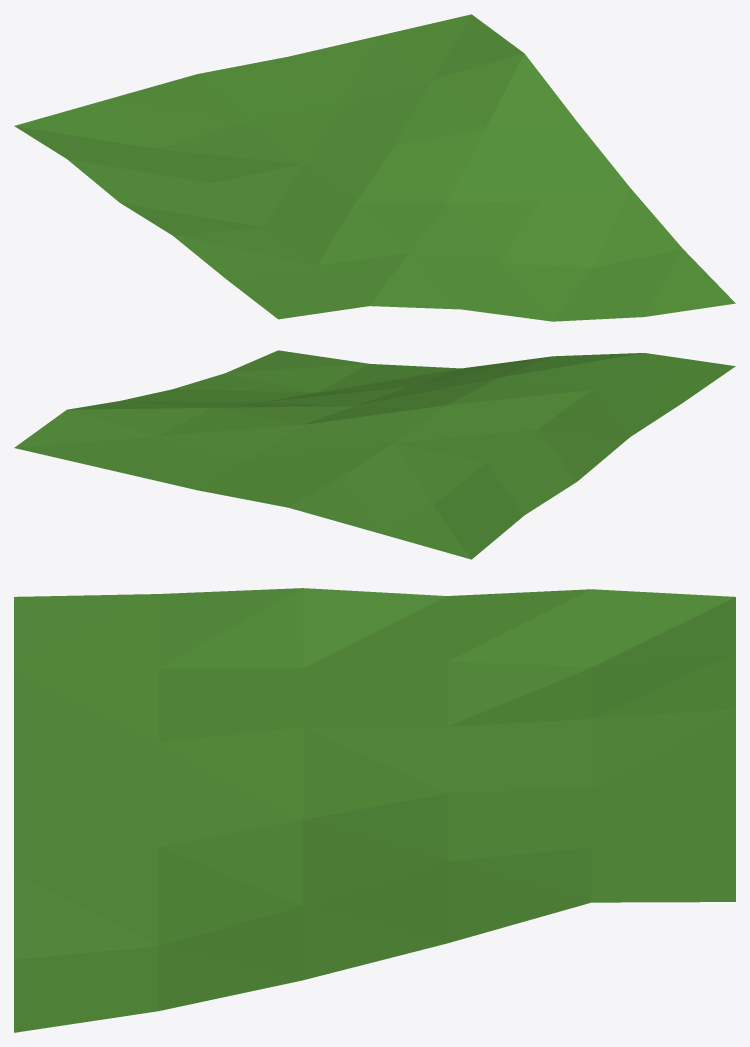
Rendered from terrain-plane-valley4.glb.
3 renders of one model, top to bottom at view 1: azimuth 30°, elevation 25°; view 2: azimuth 150°, elevation 25°; view 3: azimuth 270°, elevation 25°, orthographic. The views are drawn at different scales.
Visible parts, largest first — view 1: terrain-plane-valley4; view 2: terrain-plane-valley4; view 3: terrain-plane-valley4.
Part boxes in pixels (x1=…): terrain-plane-valley4: x1=14, y1=14, x2=735, y2=321; terrain-plane-valley4: x1=14, y1=350, x2=735, y2=559; terrain-plane-valley4: x1=14, y1=588, x2=735, y2=1032.
Bounding box in the file's own units: 30 × 6.45 × 30.
1 material, 1 textured.
